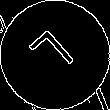L_SE: (27, 26, 83, 84)
